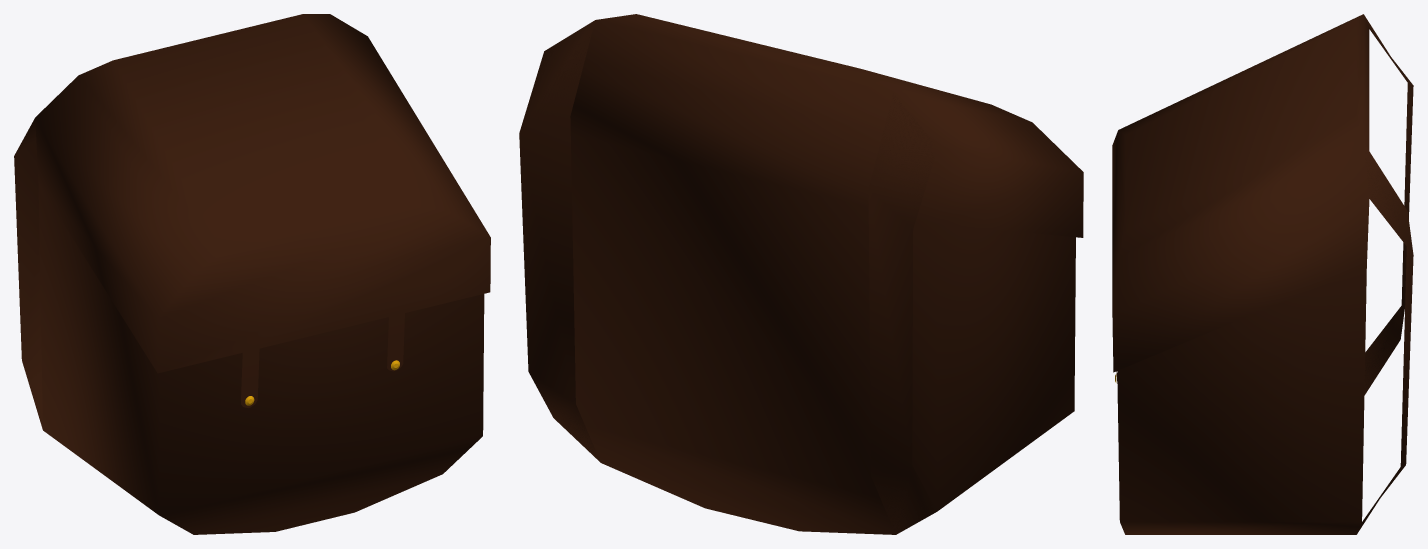
Rendered from backpack.fbx.
3 renders of one model, left to right at view 1: azimuth 30°, elevation 25°; view 2: azimuth 150°, elevation 25°; view 3: azimuth 270°, elevation 25°, orthographic. The views are drawn at different scales.
Parts seen in each view (by area): view 1: Plane; view 2: Plane; view 3: Plane.
Boxes of the visible parts, box(x1,y1,x2,y2) form: Plane: box(14, 14, 490, 534); Plane: box(519, 14, 1083, 534); Plane: box(1112, 14, 1413, 534).
Size of the model in its own units: 205 by 240 by 154.
